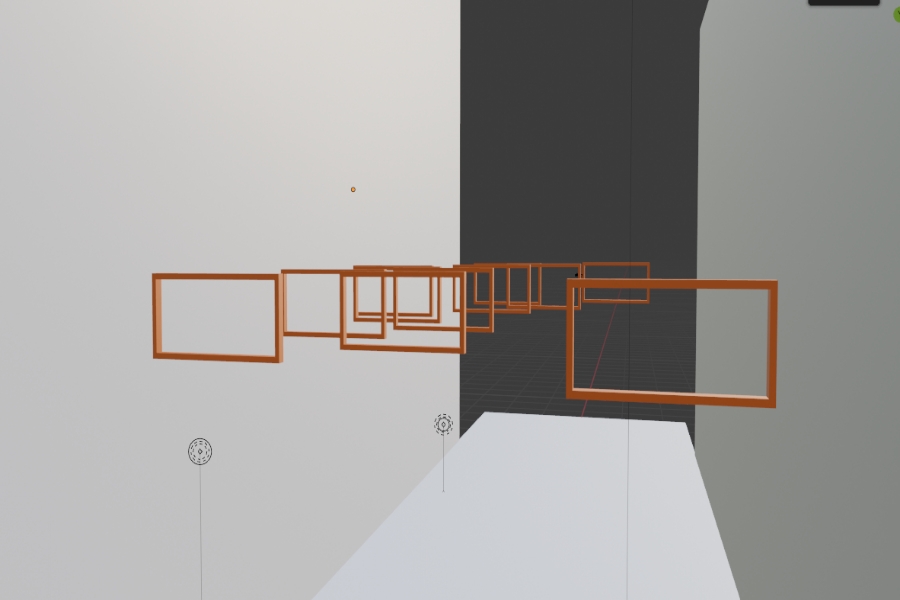GATE: (561, 270, 785, 409), (149, 272, 283, 360), (335, 271, 470, 356), (274, 264, 386, 337)
